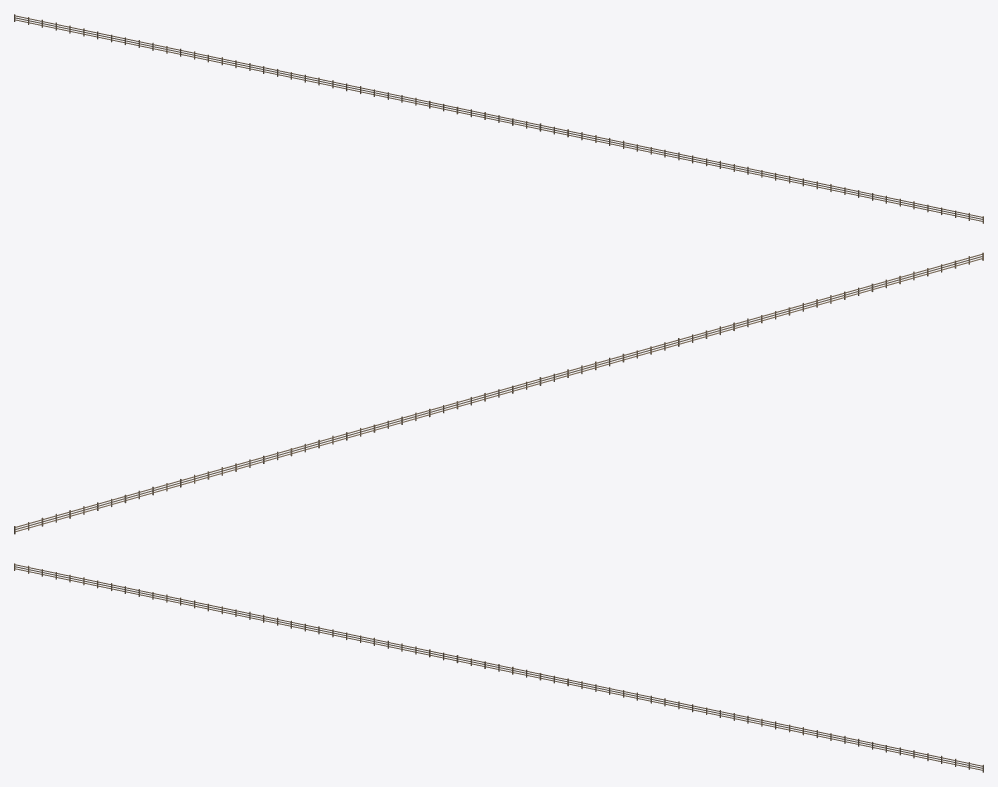
File: border_00033.glb
The picture shows the model from 3 angles, top to bottom: view 1: azimuth 90°, elevation 25°; view 2: azimuth 150°, elevation 25°; view 3: azimuth 270°, elevation 25°; orthographic projection. The views are drawn at different scales.
Parts seen in each view (by area): view 1: Fence rails, Fence posts; view 2: Fence rails, Fence posts; view 3: Fence rails, Fence posts.
Part boxes in pixels (bbox=[...]): Fence rails: bbox=[15, 15, 982, 221]; Fence posts: bbox=[14, 14, 983, 223]; Fence rails: bbox=[15, 253, 982, 531]; Fence posts: bbox=[14, 252, 983, 534]; Fence rails: bbox=[15, 564, 982, 770]; Fence posts: bbox=[14, 563, 983, 772].
Size of the model in its own units: 66.73 by 1.21 by 135.
